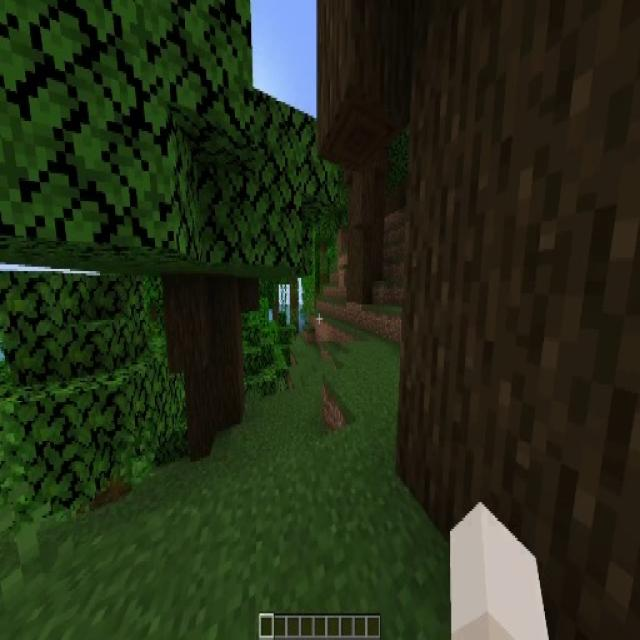dark_oak: (121, 53, 282, 450)
dark_oak_log: (407, 0, 637, 505), (167, 271, 247, 435), (345, 146, 386, 308)
jungle_log: (291, 282, 299, 332)
